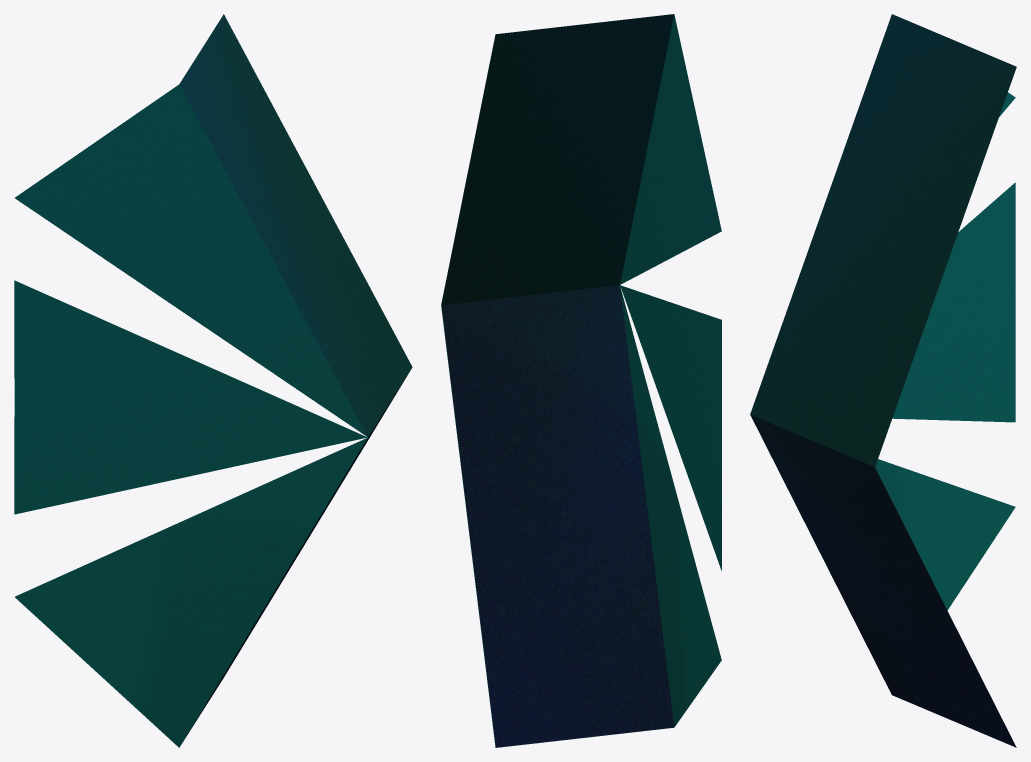
The model's file is icon_3Ds_1.glb.
3 views of the same model, side by side, from view 1: azimuth 30°, elevation 25°; view 2: azimuth 150°, elevation 25°; view 3: azimuth 270°, elevation 25° (orthographic). The views are drawn at different scales.
Visible parts, largest first — view 1: icon_3Ds_1; view 2: icon_3Ds_1; view 3: icon_3Ds_1.
Part boxes in pixels (x1,y1,x2,y2): icon_3Ds_1: (14, 14, 412, 747); icon_3Ds_1: (441, 14, 721, 747); icon_3Ds_1: (750, 14, 1016, 747).
Bounding box in the file's own units: 1.37 × 2.64 × 0.9372.
1 material, 1 textured.
